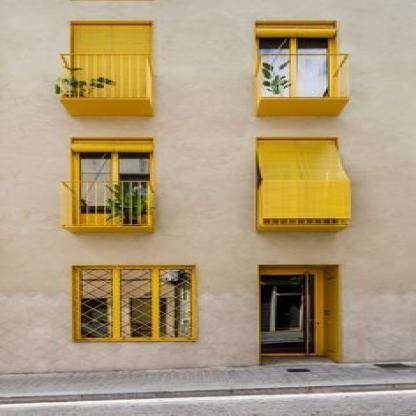Balcony: (256, 53, 351, 116), (60, 53, 153, 117), (256, 180, 351, 232), (60, 181, 153, 233)
Blind: (256, 141, 353, 218), (72, 26, 152, 112), (256, 25, 337, 37), (71, 141, 153, 152)
Building Outline: (0, 0, 416, 374)
Door: (72, 141, 152, 227), (72, 26, 152, 112), (256, 26, 335, 112), (256, 141, 335, 227), (259, 270, 324, 356)
Door Hole: (259, 264, 340, 365), (256, 21, 339, 112), (71, 21, 154, 112), (256, 137, 339, 227), (71, 138, 154, 227)
Facade: (0, 0, 414, 361)
Floor: (0, 0, 414, 116), (0, 122, 414, 233)
Floor Slab: (0, 233, 414, 239), (0, 116, 414, 122)
Ground Floor: (0, 239, 414, 374)
Window: (71, 266, 196, 342)
